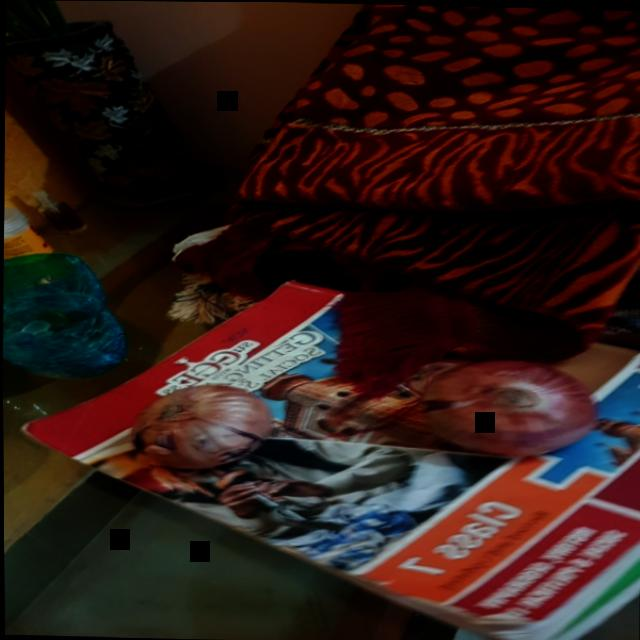onion: (391, 348, 605, 459), (129, 377, 278, 480)
